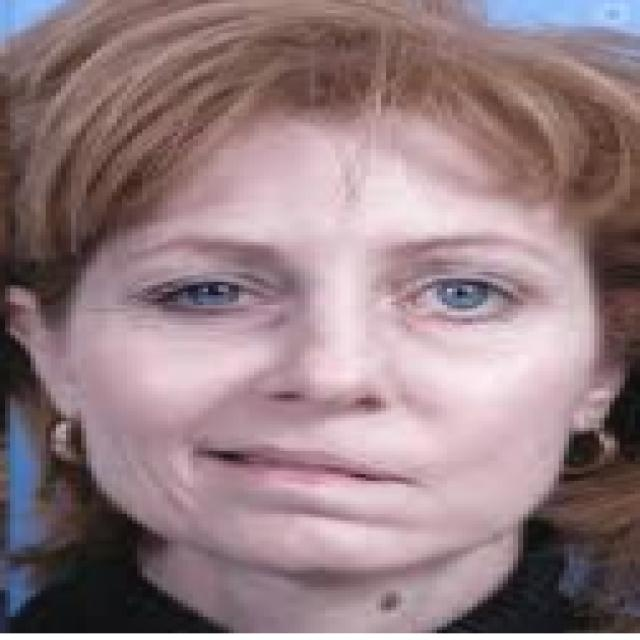stroke_face: (49, 81, 584, 585)
